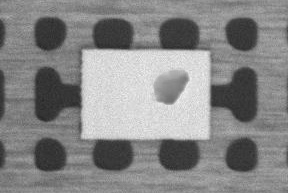DIE_INK: (150, 66, 190, 106)
